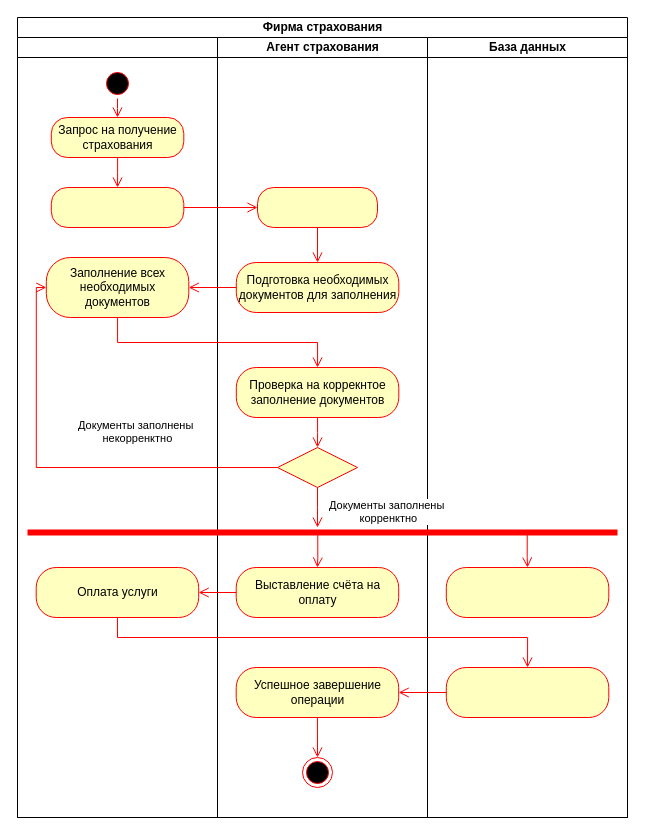
This 645x835 diagram has some shape labels left out. The shapes that lost their labels are listed below. From the top down, each one's box as (x1, y1, x2, y2) in pixels, then its label:
(50, 186, 184, 228): Выбор вида страхования
(256, 186, 378, 228): Получение запроса от клиента
(16, 36, 218, 818): Клиент
(445, 566, 609, 618): Занесение данных из документов в базу
(445, 666, 609, 718): Занесение данных о страховании в базу
